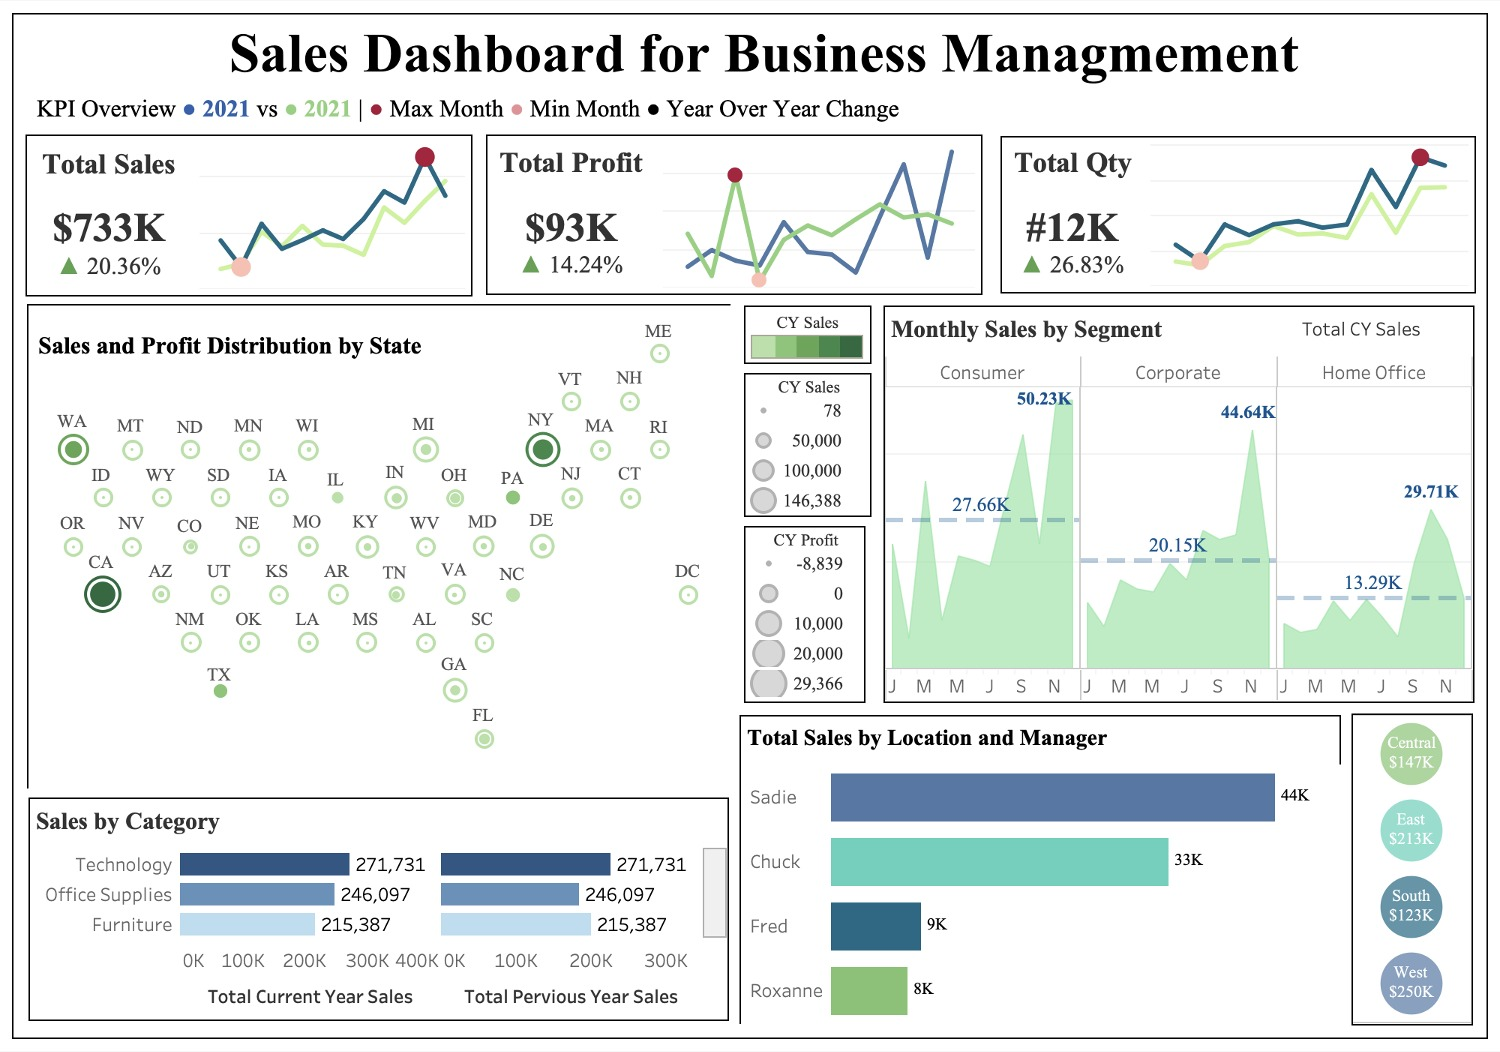

The page's visual inventory and layout, read from the dashboard file:
{"tool":"tableau","page":{"name":"Sales Dashboard","canvas":[1000,700],"ordinal":0},"visuals":[{"type":"text","box":[150,14,724,41]},{"type":"text","box":[22,59,958,25]},{"type":"worksheet","title":"Sales KPI","mark":"Automatic","box":[18,90,111,106]},{"type":"worksheet","title":"Sales Sparkline","mark":"Automatic","rows":["Calculation_5320651170534535185"],"cols":["Order Date"],"box":[129,90,185,106]},{"type":"worksheet","title":"Profit KPI","mark":"Automatic","box":[325,90,113,105]},{"type":"worksheet","title":"Profit Sparkline","mark":"Automatic","rows":["Min Max Month (copy)_5320651170540584978"],"cols":["Order Date"],"box":[438,90,216,105]},{"type":"worksheet","title":"Quatity KPI","mark":"Automatic","box":[668,91,95,103]},{"type":"worksheet","title":"Quantity Sparkline","mark":"Automatic","rows":["Min Max Sales (copy)_5320651170543390739"],"cols":["Order Date"],"box":[763,91,220,103]},{"type":"worksheet","title":"Sales and Profit by States","mark":"Circle","rows":["Row"],"cols":["Column","Column"],"box":[18,202,469,323]},{"type":"legend","title":"Sales and Profit by States","param":"[federated.1v0omts1hla1cp1g2pwun0qlgiaj].[sum:Calculation_5320651170519838720:qk","box":[496,203,85,39]},{"type":"worksheet","title":"Monthly Sales by Segment","mark":"Area","rows":["Calculation_5320651174362476571"],"cols":["Segment","Order Date"],"box":[589,203,394,265]},{"type":"parameter","param":"[Parameters].[Parameter 1]","box":[866,210,112,25]},{"type":"text","box":[23,215,277,30]},{"type":"legend","title":"Sales and Profit by States","param":"[federated.1v0omts1hla1cp1g2pwun0qlgiaj].[sum:Calculation_5320651170519838720:qk","box":[496,248,85,96]},{"type":"legend","title":"Sales and Profit by States","param":"[federated.1v0omts1hla1cp1g2pwun0qlgiaj].[sum:Total Current Year Sales (copy)_53","box":[496,350,81,118]},{"type":"worksheet","title":"Region wise sales","mark":"Circle","rows":["Region"],"box":[901,475,81,208]},{"type":"worksheet","title":"Total Sales by Location and Manager","mark":"Automatic","rows":["Country/Region","Regional Manager"],"cols":["Total Current Year Sales (copy)_5320651170527539204"],"box":[493,476,401,206]},{"type":"worksheet","title":"Sales by Category","mark":"Automatic","rows":["Category"],"cols":["Calculation_5320651170519838720","Calculation_5320651170520215553"],"box":[19,531,467,149]}]}

Visuals, with their boxes in screenshot pixels (x1, y1, x2, y2), scaled from the page's 1000x700 canvas onto the 1500x1052 screenshot:
text: <region>225, 21, 1311, 83</region>
text: <region>33, 89, 1470, 126</region>
"Sales KPI" worksheet: <region>27, 135, 194, 295</region>
"Sales Sparkline" worksheet: <region>194, 135, 471, 295</region>
"Profit KPI" worksheet: <region>488, 135, 657, 293</region>
"Profit Sparkline" worksheet: <region>657, 135, 981, 293</region>
"Quatity KPI" worksheet: <region>1002, 137, 1144, 292</region>
"Quantity Sparkline" worksheet: <region>1144, 137, 1474, 292</region>
"Sales and Profit by States" worksheet (Circle marks): <region>27, 304, 730, 789</region>
"Sales and Profit by States" legend: <region>744, 305, 872, 364</region>
"Monthly Sales by Segment" worksheet (Area marks): <region>884, 305, 1474, 703</region>
parameter: <region>1299, 316, 1467, 353</region>
text: <region>34, 323, 450, 368</region>
"Sales and Profit by States" legend: <region>744, 373, 872, 517</region>
"Sales and Profit by States" legend: <region>744, 526, 866, 703</region>
"Region wise sales" worksheet (Circle marks): <region>1352, 714, 1473, 1026</region>
"Total Sales by Location and Manager" worksheet: <region>740, 715, 1341, 1025</region>
"Sales by Category" worksheet: <region>28, 798, 729, 1022</region>
